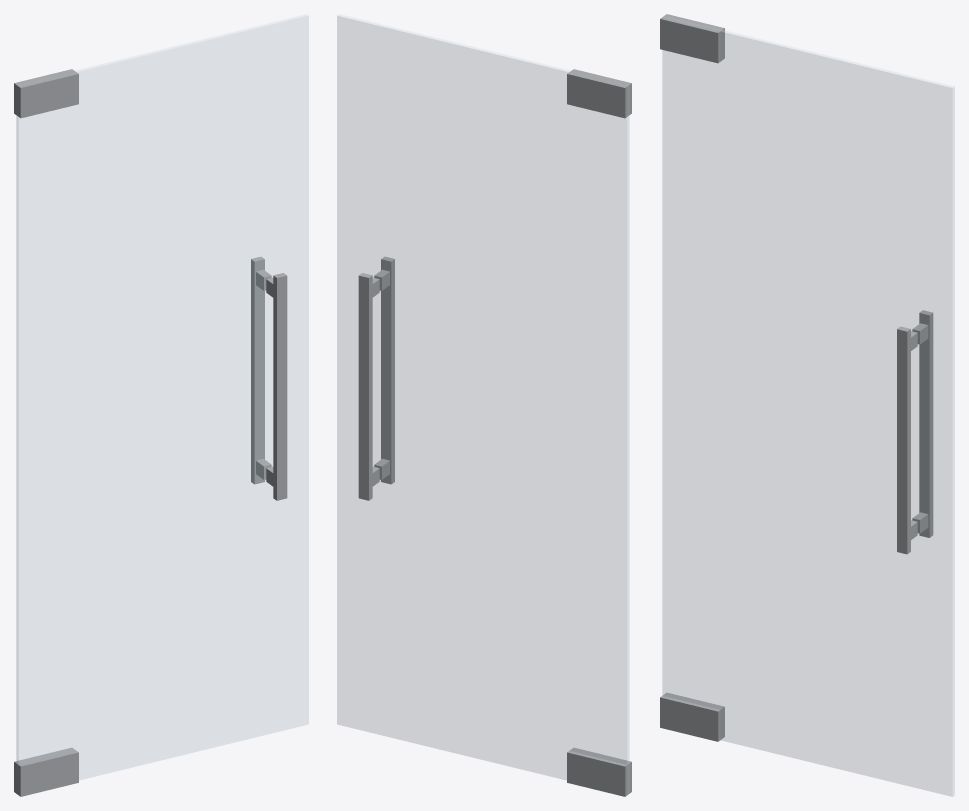
The model's file is mlo_door_glass_clear.glb.
3 views of the same model, side by side, from view 1: azimuth 30°, elevation 25°; view 2: azimuth 150°, elevation 25°; view 3: azimuth 330°, elevation 25° (orthographic).
Parts seen in each view (by area): view 1: Door_Glass_Clear; view 2: Door_Glass_Clear; view 3: Door_Glass_Clear.
Part boxes in pixels (x1,y1,x2,y2): Door_Glass_Clear: [14, 14, 308, 796]; Door_Glass_Clear: [337, 14, 631, 796]; Door_Glass_Clear: [660, 14, 954, 796].
Size of the model in its own units: 0.9 by 2.1 by 0.14.
